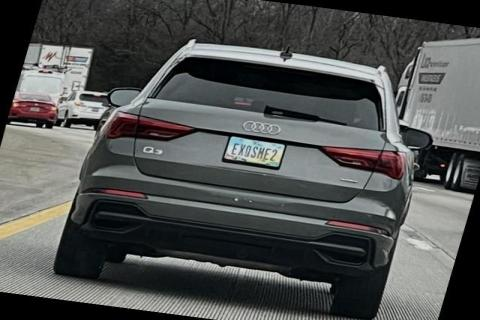LicensePlate: (219, 133, 286, 169)
